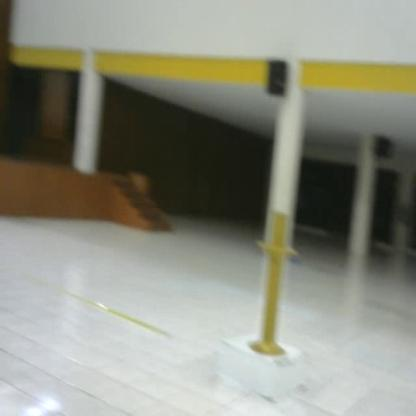pole: (245, 209, 298, 360)
